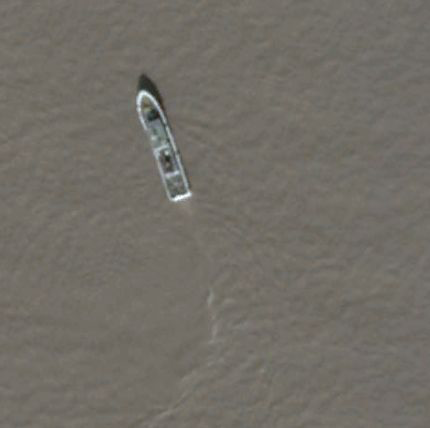boat: (135, 89, 194, 204)
